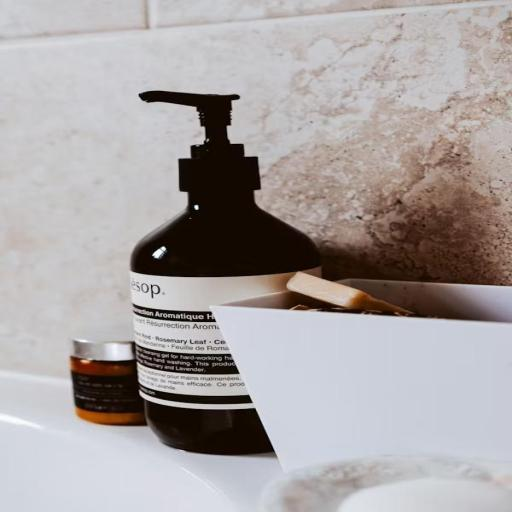bottle: (114, 78, 345, 472)
